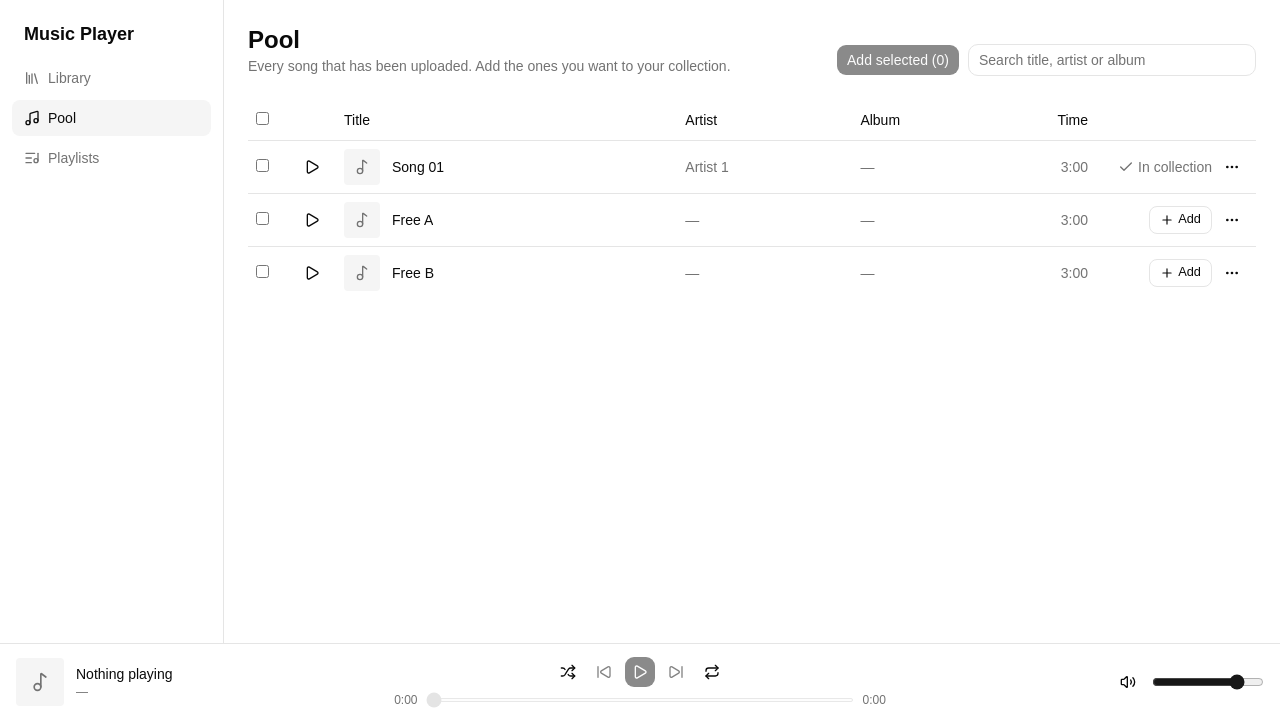
Test: Pool › select all only selects songs not yet in the collection
Expected: the text "Free A" is shown, [392, 210, 433, 230]
Click the checkbox named "Select all songs" at (262, 118), box [256, 112, 269, 125]
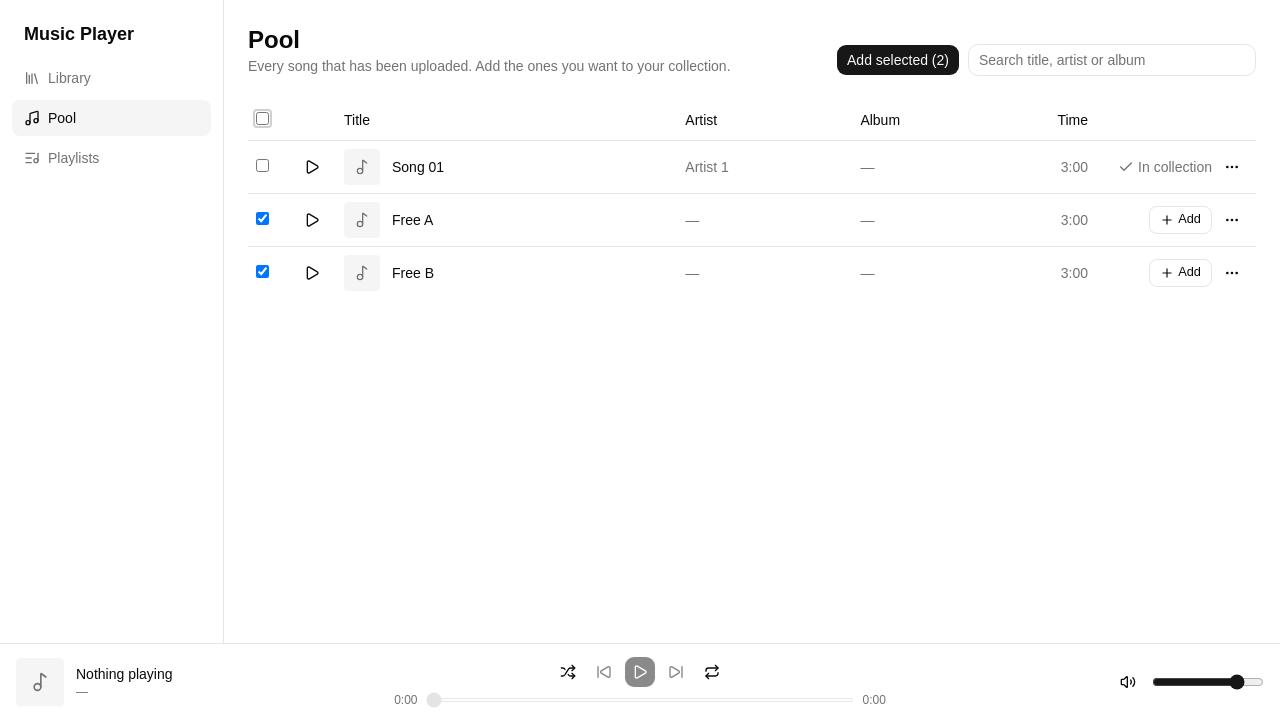
Result: the button "Add selected (2)" is enabled at [836, 44, 960, 76]
